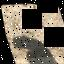Morning glory: (10, 47, 64, 64)
